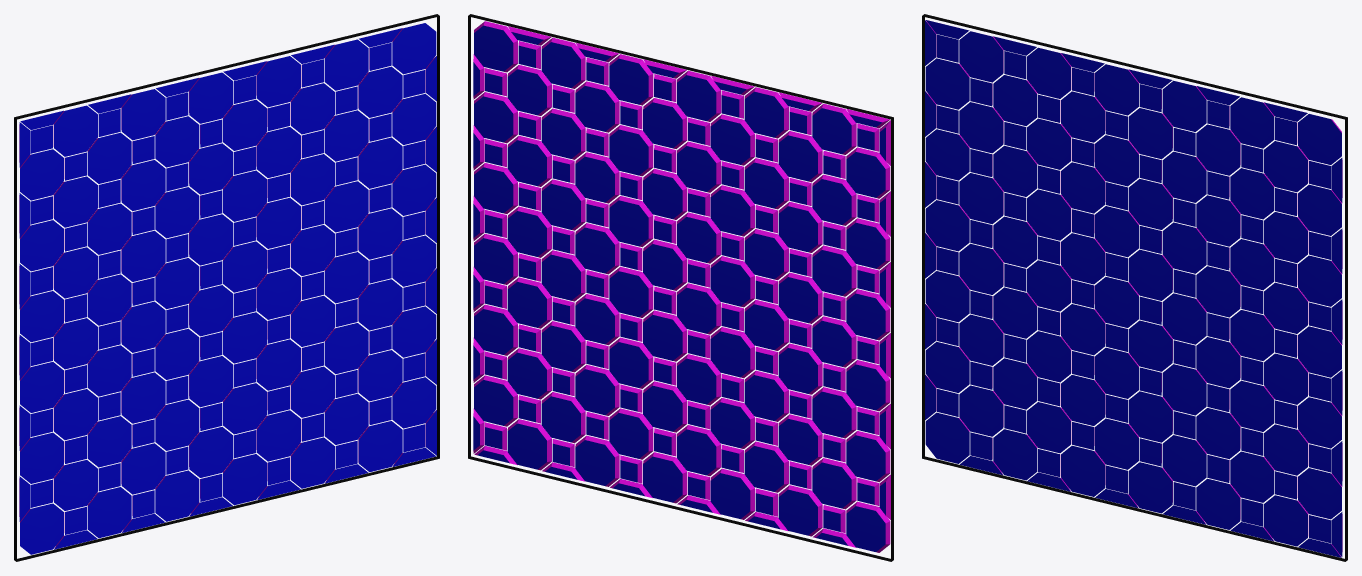
The model's file is WallFx_04.fbx.
3 renders of one model, left to right at view 1: azimuth 30°, elevation 25°; view 2: azimuth 150°, elevation 25°; view 3: azimuth 330°, elevation 25°, orthographic.
Parts seen in each view (by area): view 1: Out; view 2: Out; view 3: Out.
Part boxes in pixels (left/top/right/bottom): Out: left=14, top=14, right=439, bottom=561; Out: left=468, top=14, right=893, bottom=561; Out: left=922, top=14, right=1347, bottom=561.
Size of the model in its own units: 49.29 by 49.29 by 0.5.
